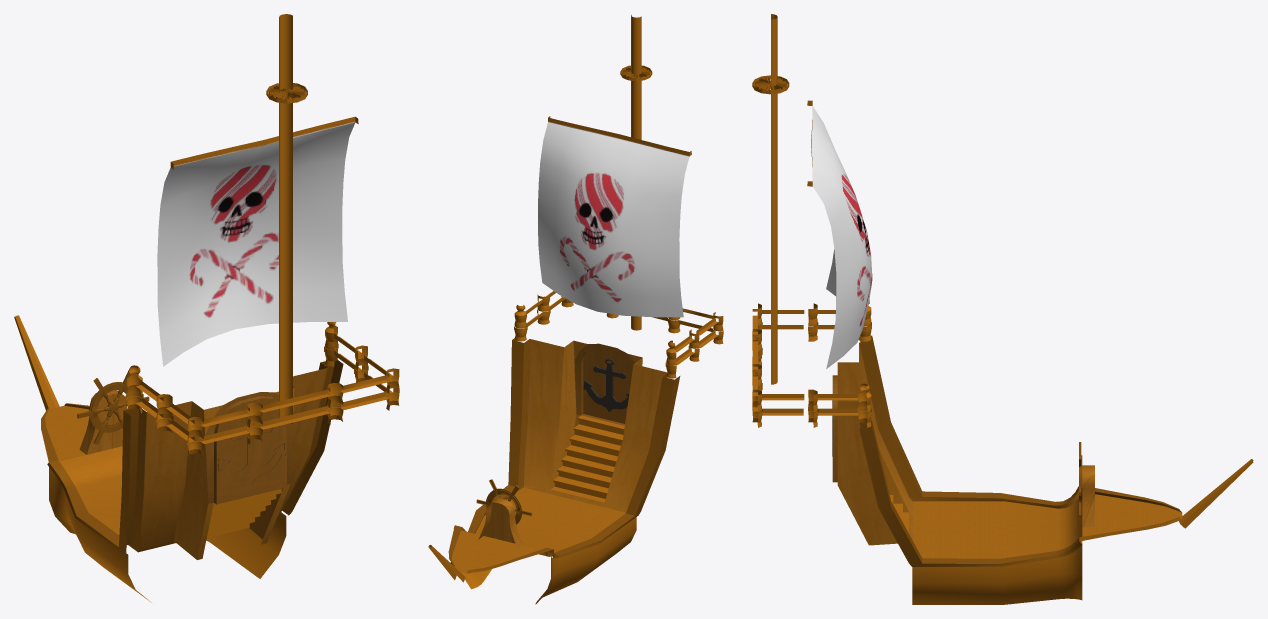
File: Boat.fbx
3 views of the same model, side by side, from view 1: azimuth 30°, elevation 25°; view 2: azimuth 150°, elevation 25°; view 3: azimuth 270°, elevation 25° (orthographic). The views are drawn at different scales.
Parts seen in each view (by area): view 1: BodyAndSail, Rail, Wheel, TopBit; view 2: BodyAndSail, Rail, Anker, Wheel; view 3: BodyAndSail, Rail.
Part boxes in pixels (x1,y1,x2,y2): BodyAndSail: [14, 14, 358, 602]; Rail: [125, 322, 399, 456]; Wheel: [77, 370, 149, 444]; TopBit: [266, 83, 307, 103]; BodyAndSail: [428, 14, 691, 604]; Rail: [514, 291, 723, 378]; Anker: [583, 358, 629, 411]; Wheel: [476, 479, 531, 524]; BodyAndSail: [771, 14, 1253, 604]; Rail: [752, 300, 871, 427].
Bounding box in the file's own units: 230 × 654 × 526.
